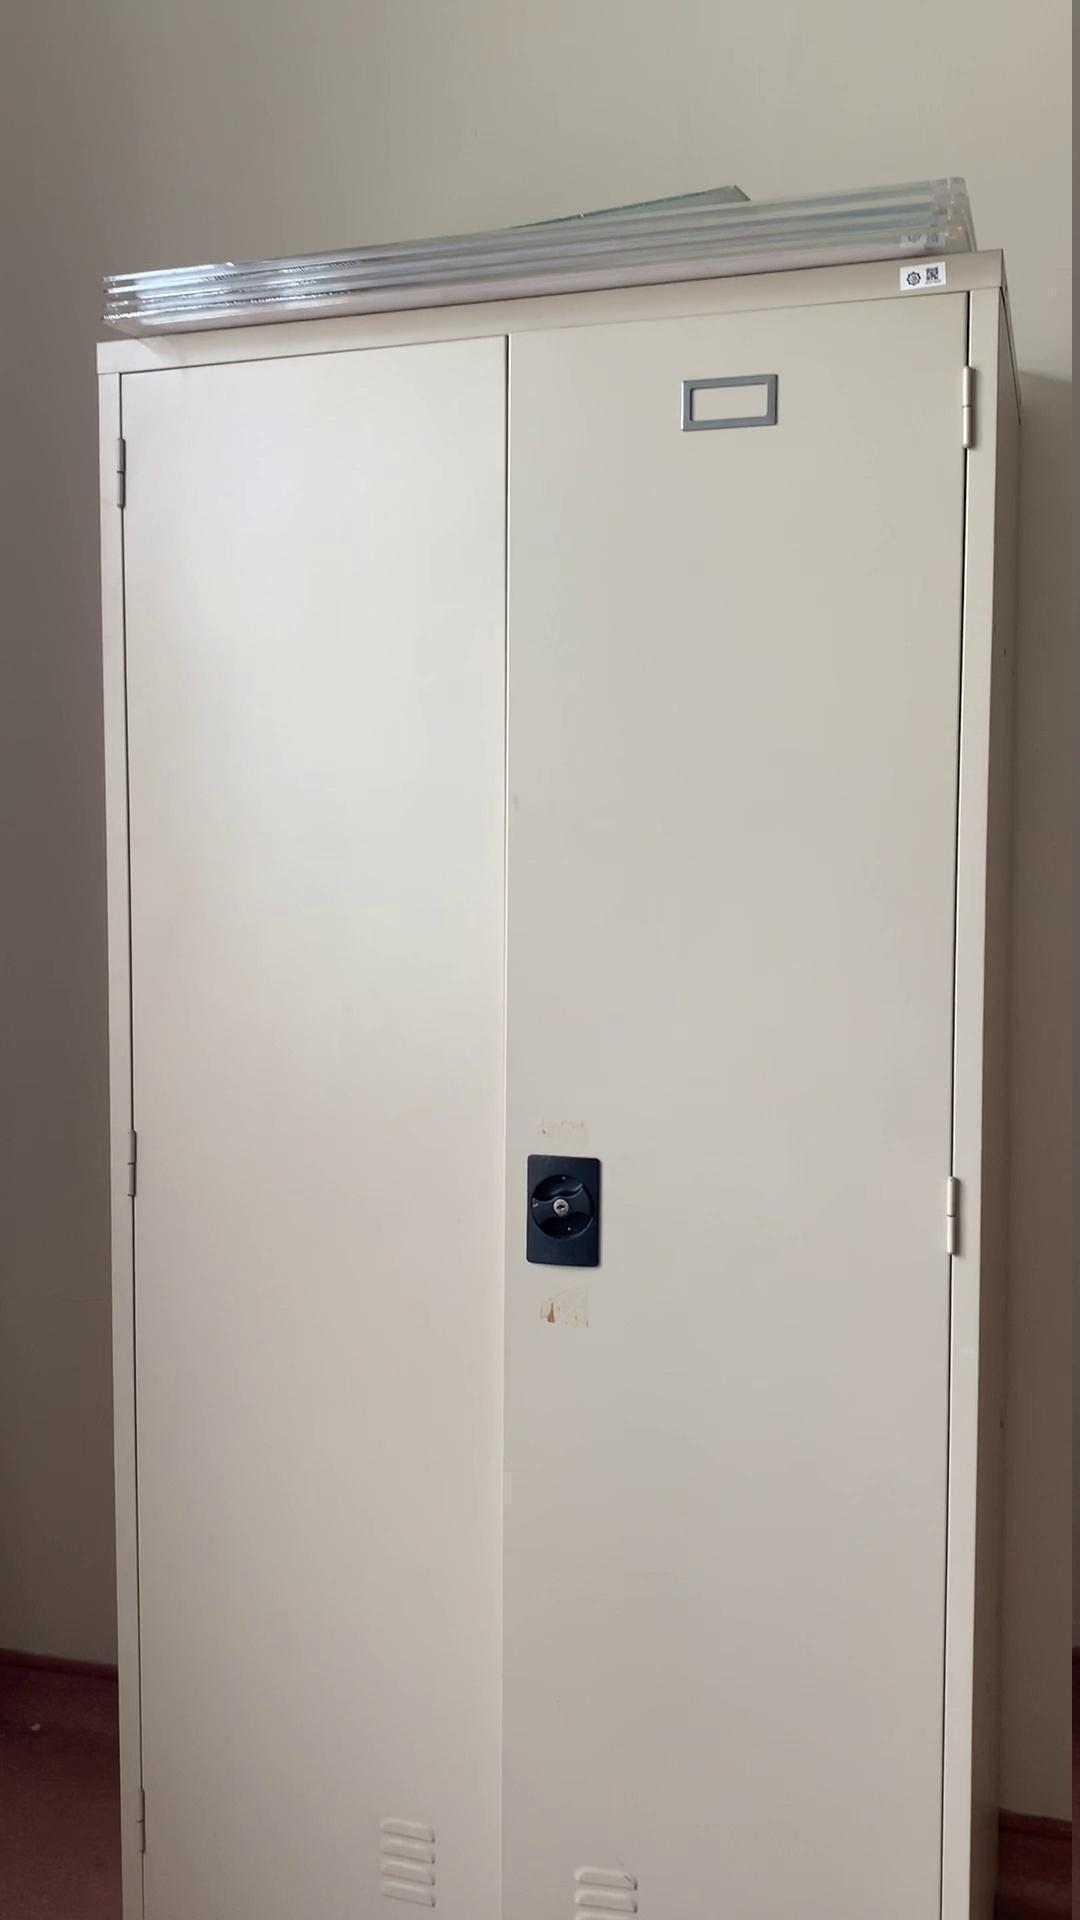Armario: (82, 177, 1009, 1887)
